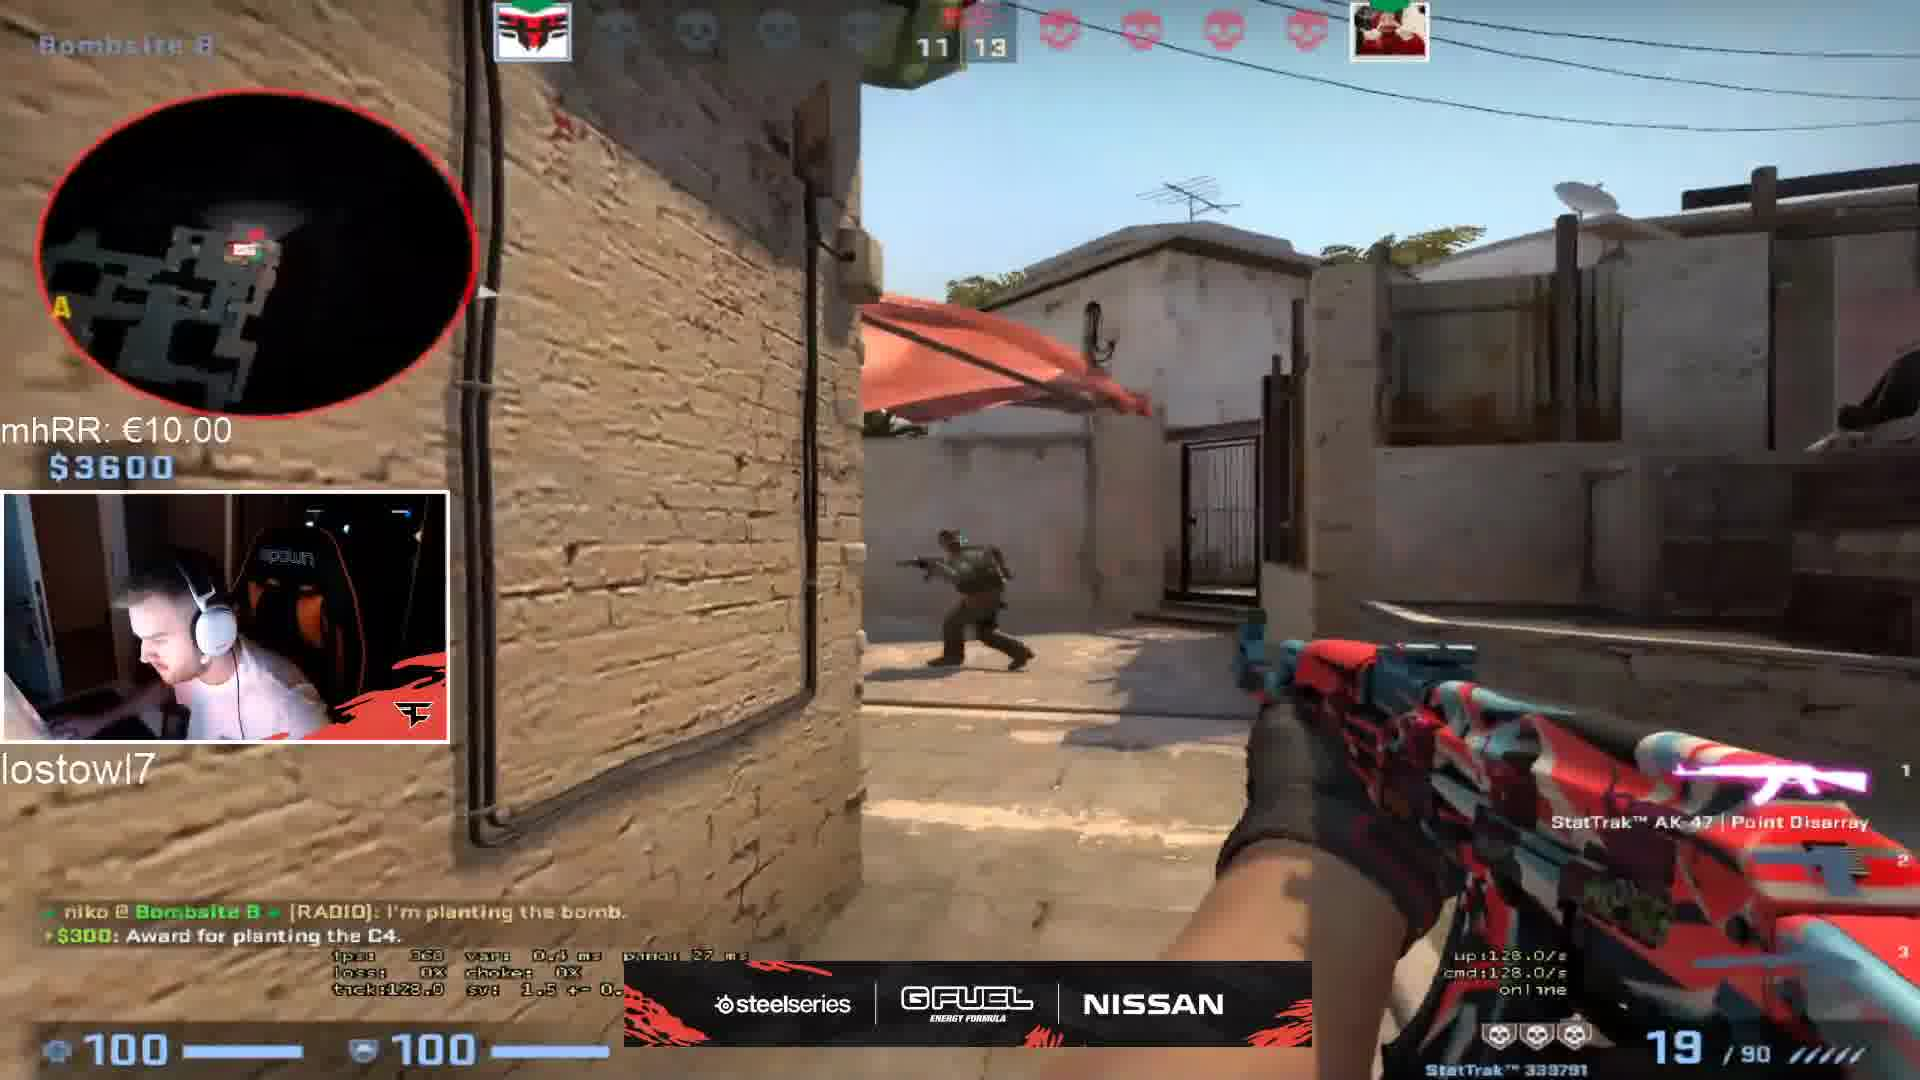enemy: (893, 522, 1038, 682)
